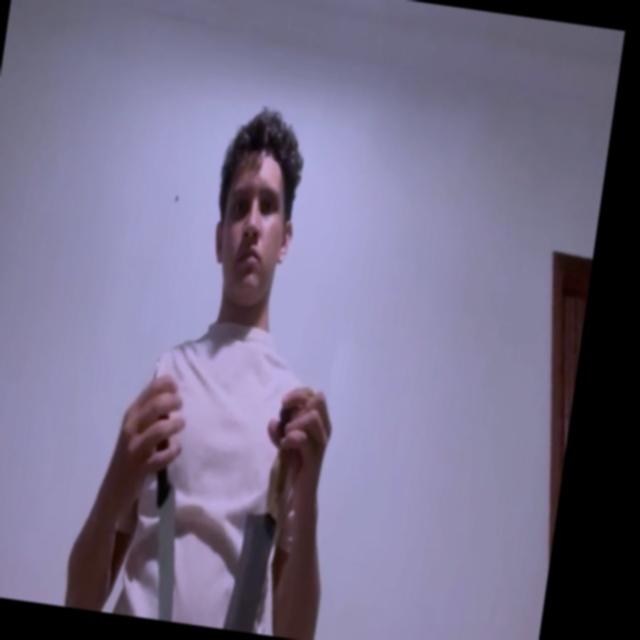Sharp-Object: (223, 508, 279, 634), (143, 481, 189, 622)
